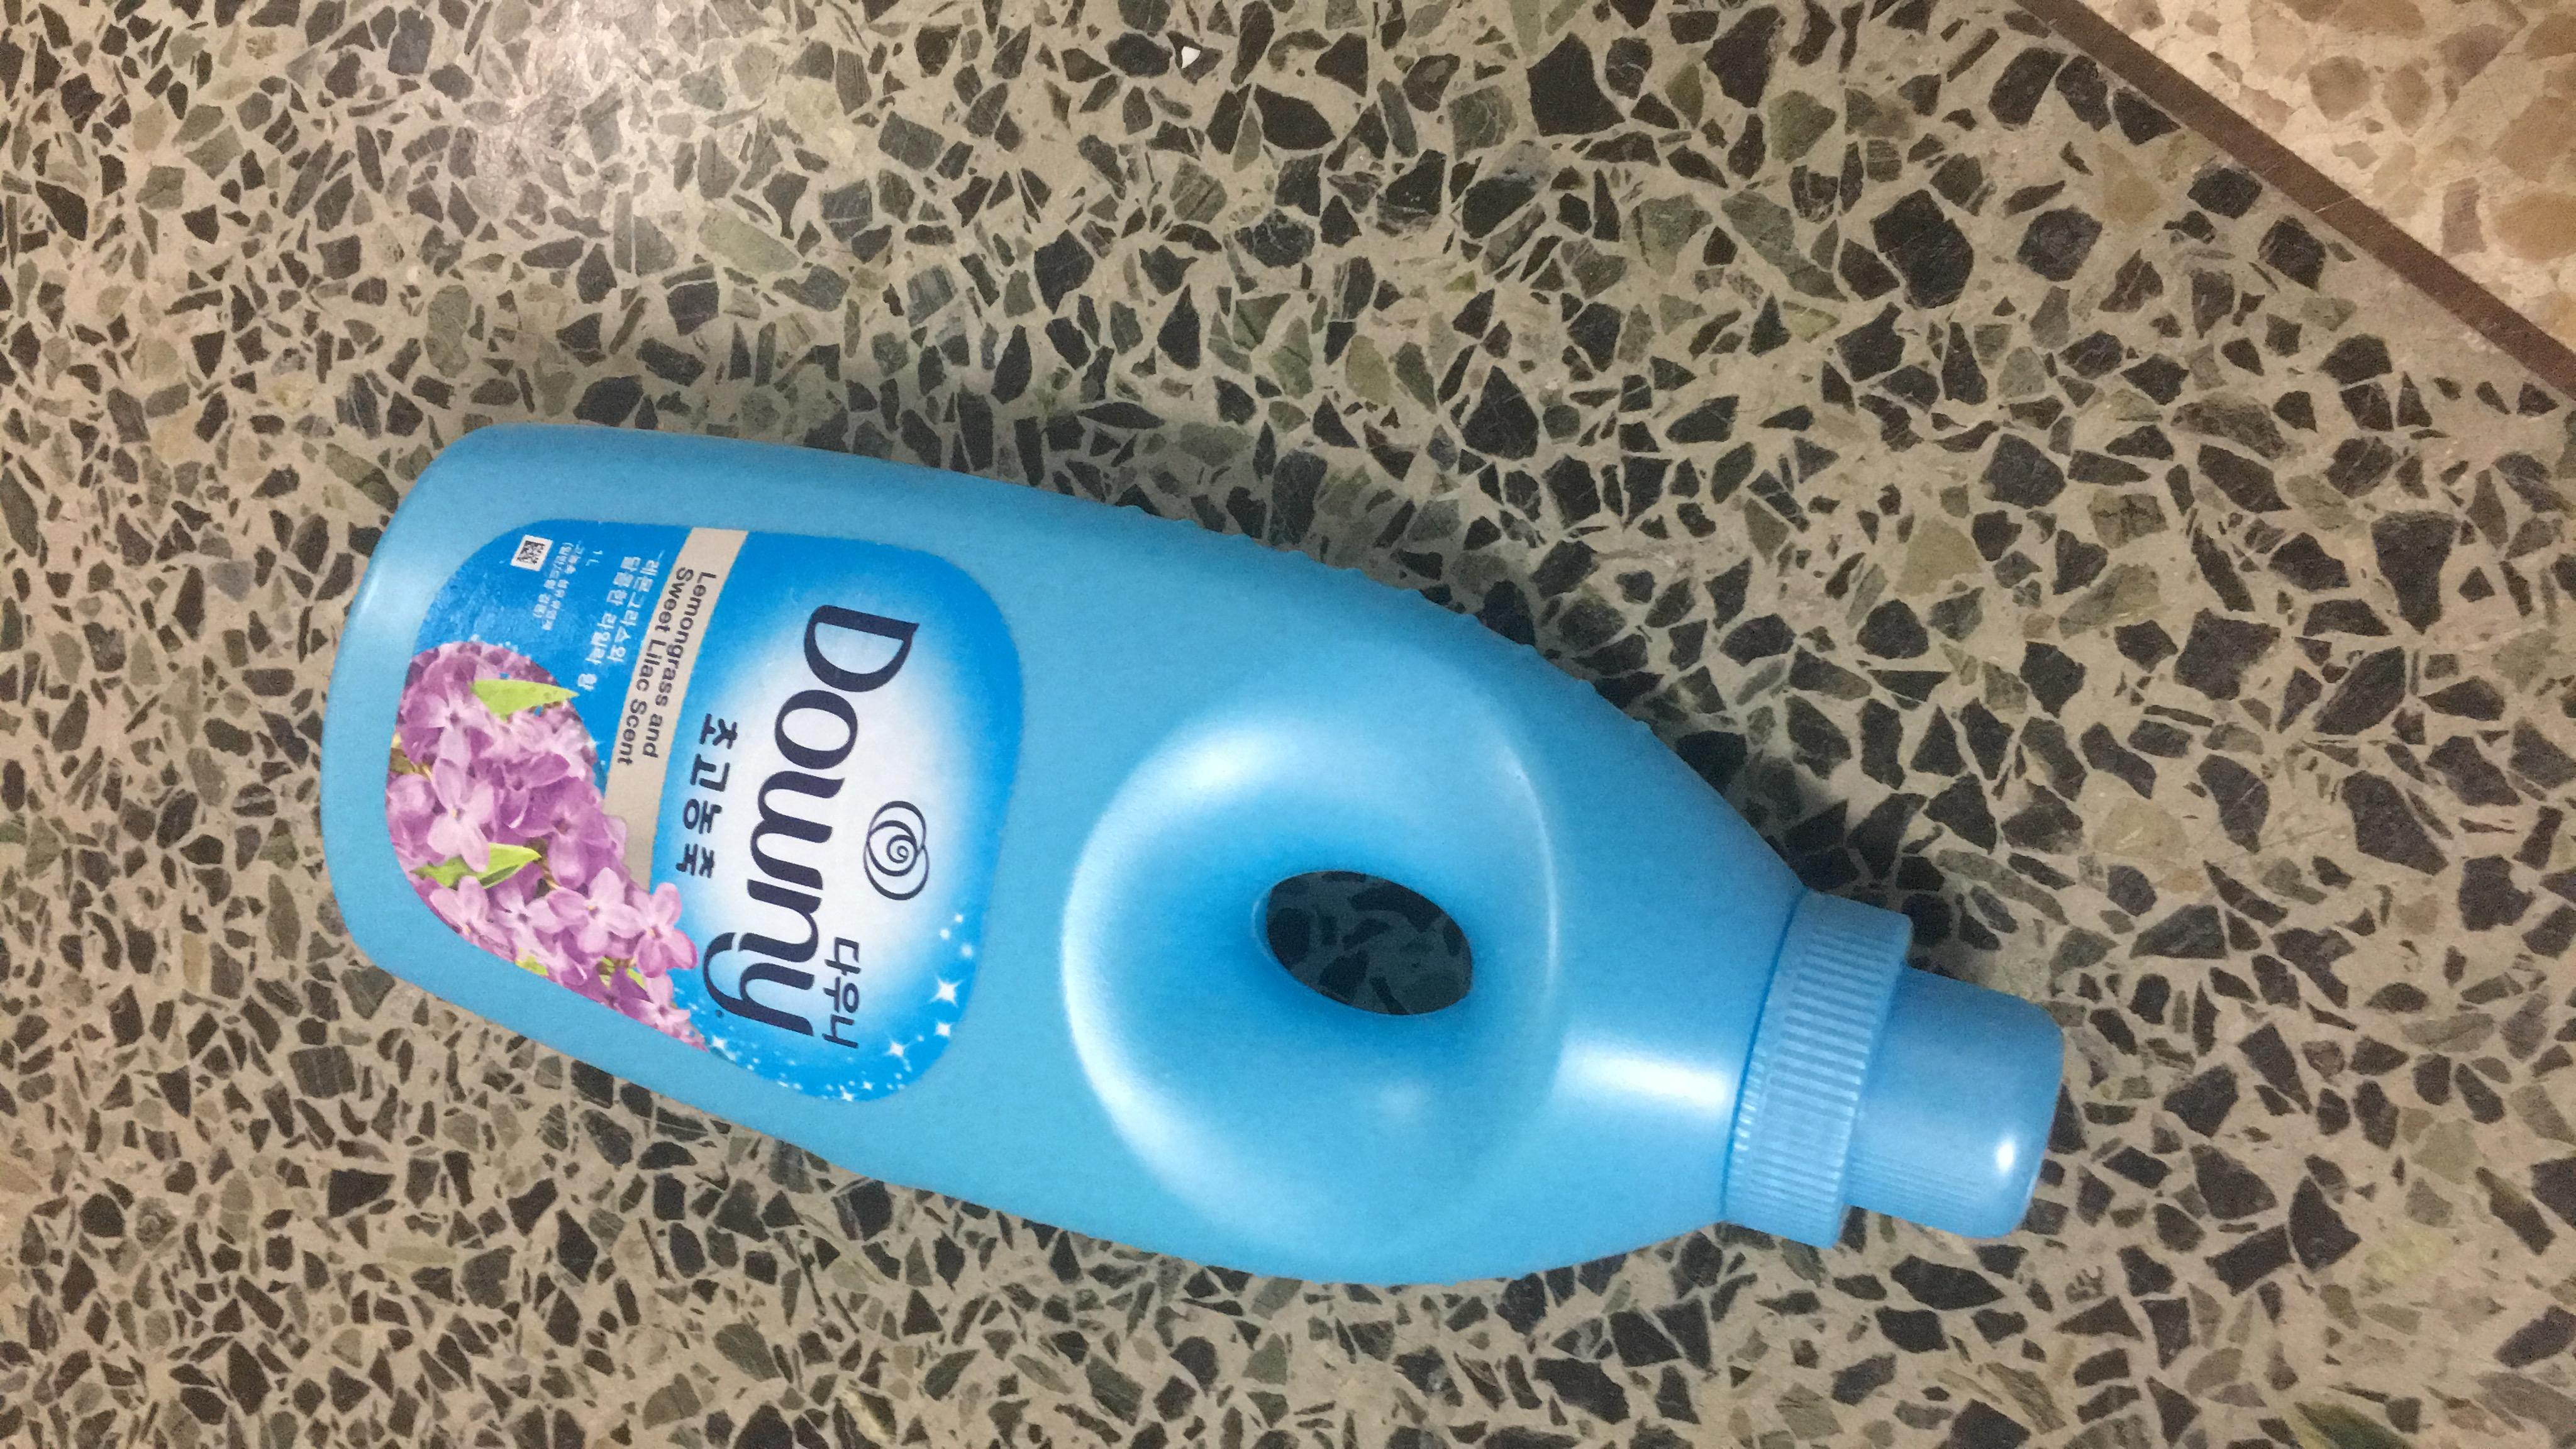bottle: (203, 62, 1842, 1111)
